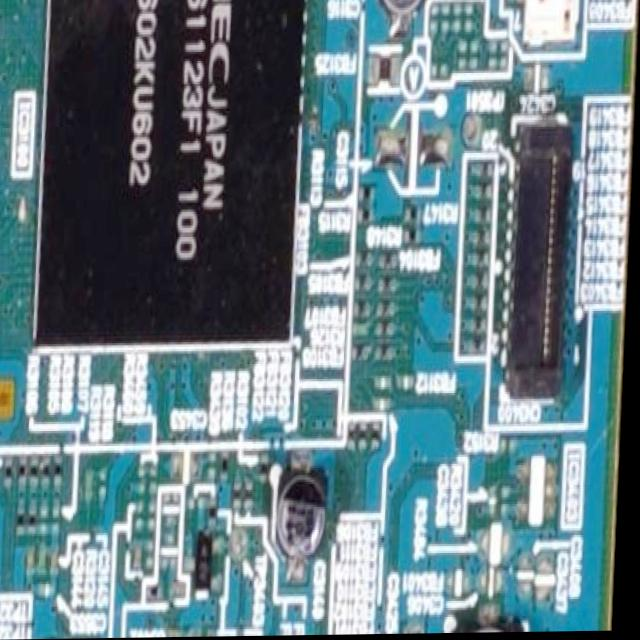IC: (18, 0, 311, 348), (521, 455, 560, 526)
capacitor: (280, 460, 331, 561), (373, 0, 426, 31), (452, 617, 538, 634), (175, 454, 207, 480), (485, 572, 508, 602), (539, 563, 561, 590), (521, 556, 535, 593), (135, 534, 148, 572), (29, 544, 41, 575), (174, 581, 192, 601), (494, 479, 502, 518), (54, 548, 64, 575), (212, 628, 224, 637), (175, 631, 187, 638)
connector: (500, 116, 570, 410), (518, 0, 581, 56)
resistor: (168, 516, 184, 556), (37, 579, 61, 605), (210, 494, 225, 530), (222, 449, 236, 486), (401, 203, 427, 222), (165, 491, 188, 512), (54, 498, 66, 538), (262, 449, 274, 486), (457, 33, 468, 72), (149, 537, 160, 574), (6, 455, 19, 486), (471, 32, 481, 72), (403, 226, 424, 245), (504, 482, 515, 517), (209, 450, 221, 482), (20, 503, 30, 541), (33, 455, 43, 493), (440, 0, 450, 38), (452, 0, 464, 31), (151, 498, 163, 528), (430, 5, 440, 41), (500, 37, 510, 72), (42, 545, 53, 576), (21, 458, 31, 491), (45, 455, 55, 488), (141, 460, 151, 492), (32, 499, 41, 534), (58, 455, 68, 486), (150, 583, 169, 599), (503, 436, 519, 455), (359, 210, 378, 226), (465, 0, 476, 27), (487, 43, 497, 72), (140, 498, 149, 528), (45, 501, 53, 534), (153, 465, 162, 494), (360, 181, 376, 195)
